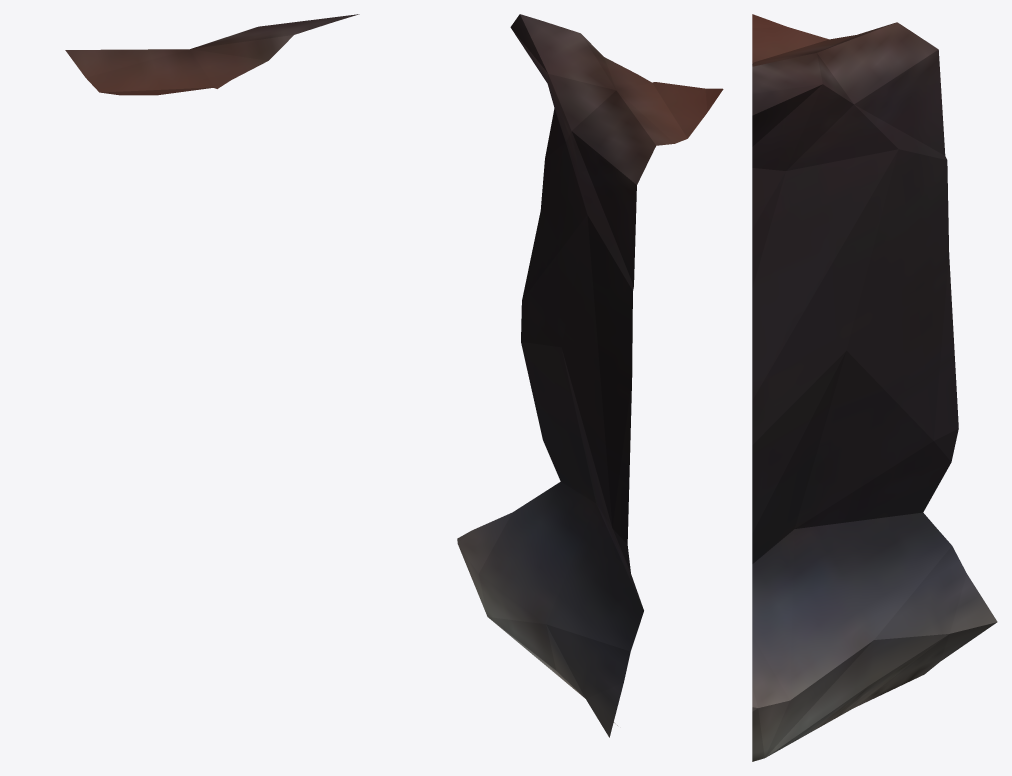
3 renders of one model, left to right at view 1: azimuth 30°, elevation 25°; view 2: azimuth 150°, elevation 25°; view 3: azimuth 270°, elevation 25°, orthographic. The views are drawn at different scales.
Size of the model in its own units: 0.0803 by 0.1887 by 0.0596.
1 material, 1 textured.
